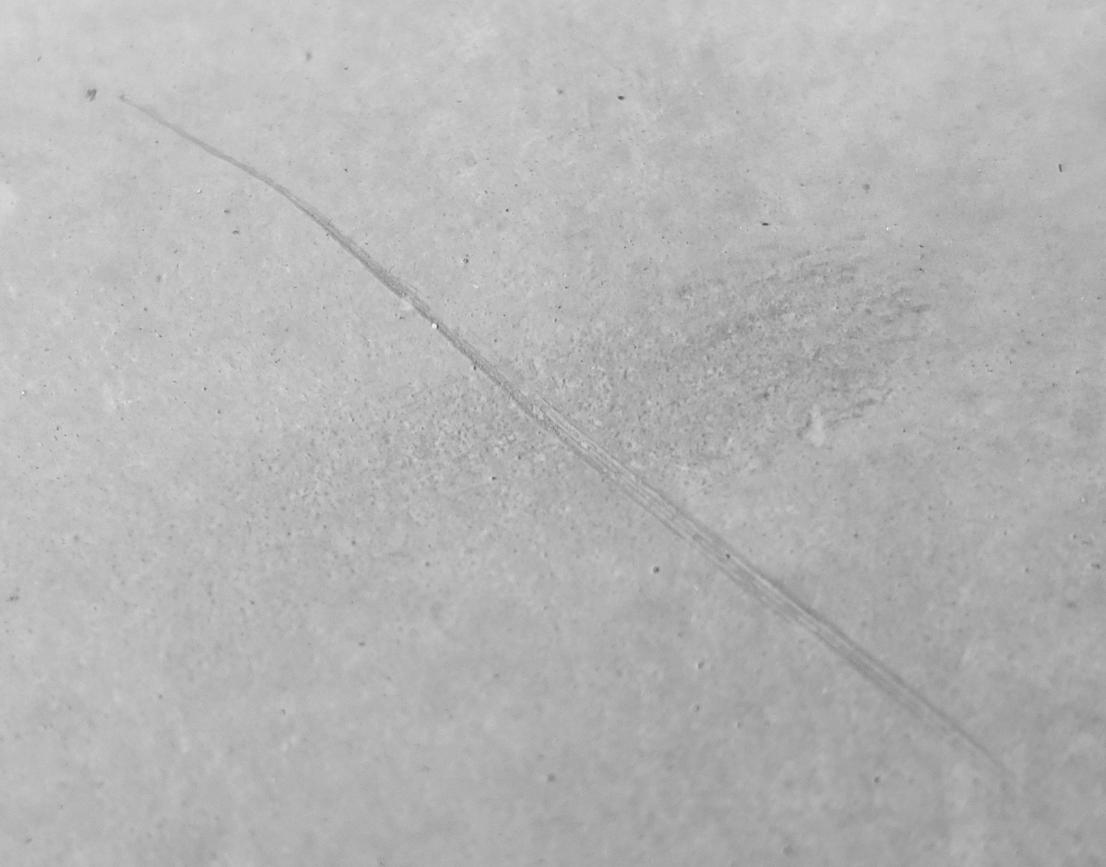scratch: (1, 1, 1106, 867)
